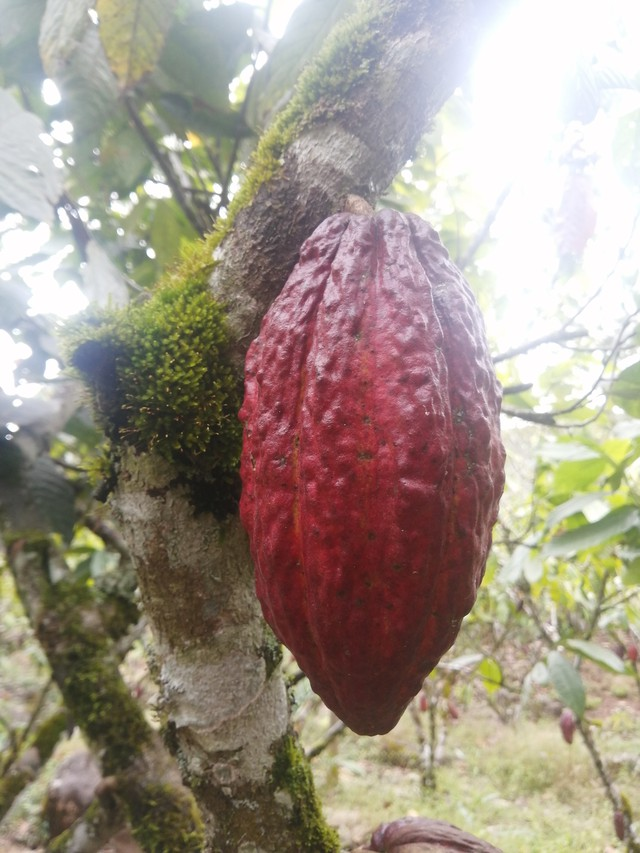Health: (223, 199, 522, 743)
